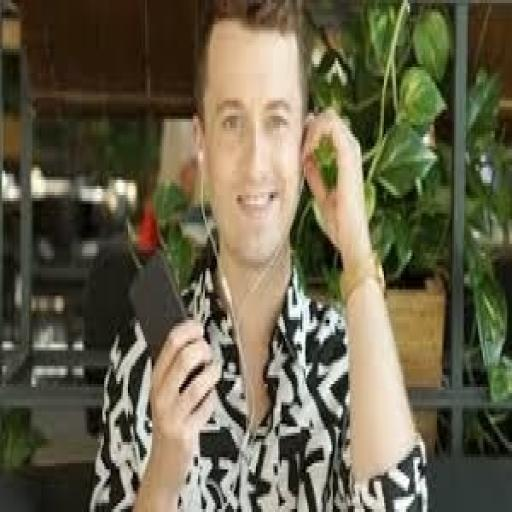listening_to_music: (87, 3, 432, 509)
